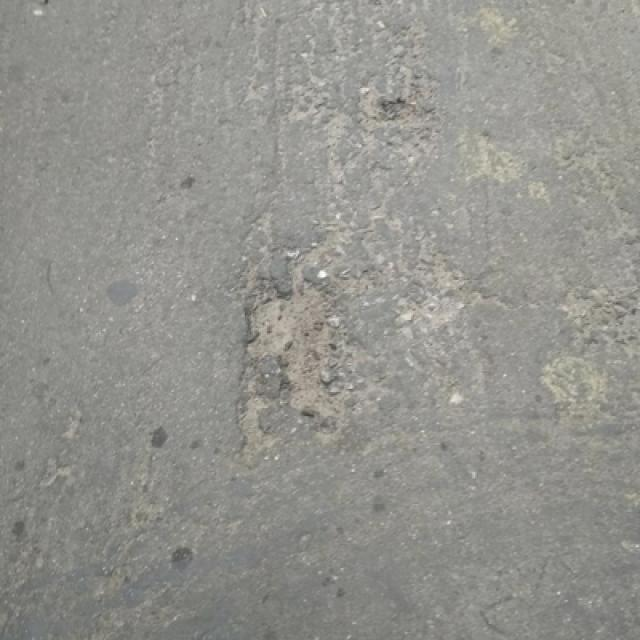Pothole: (209, 240, 362, 474)
